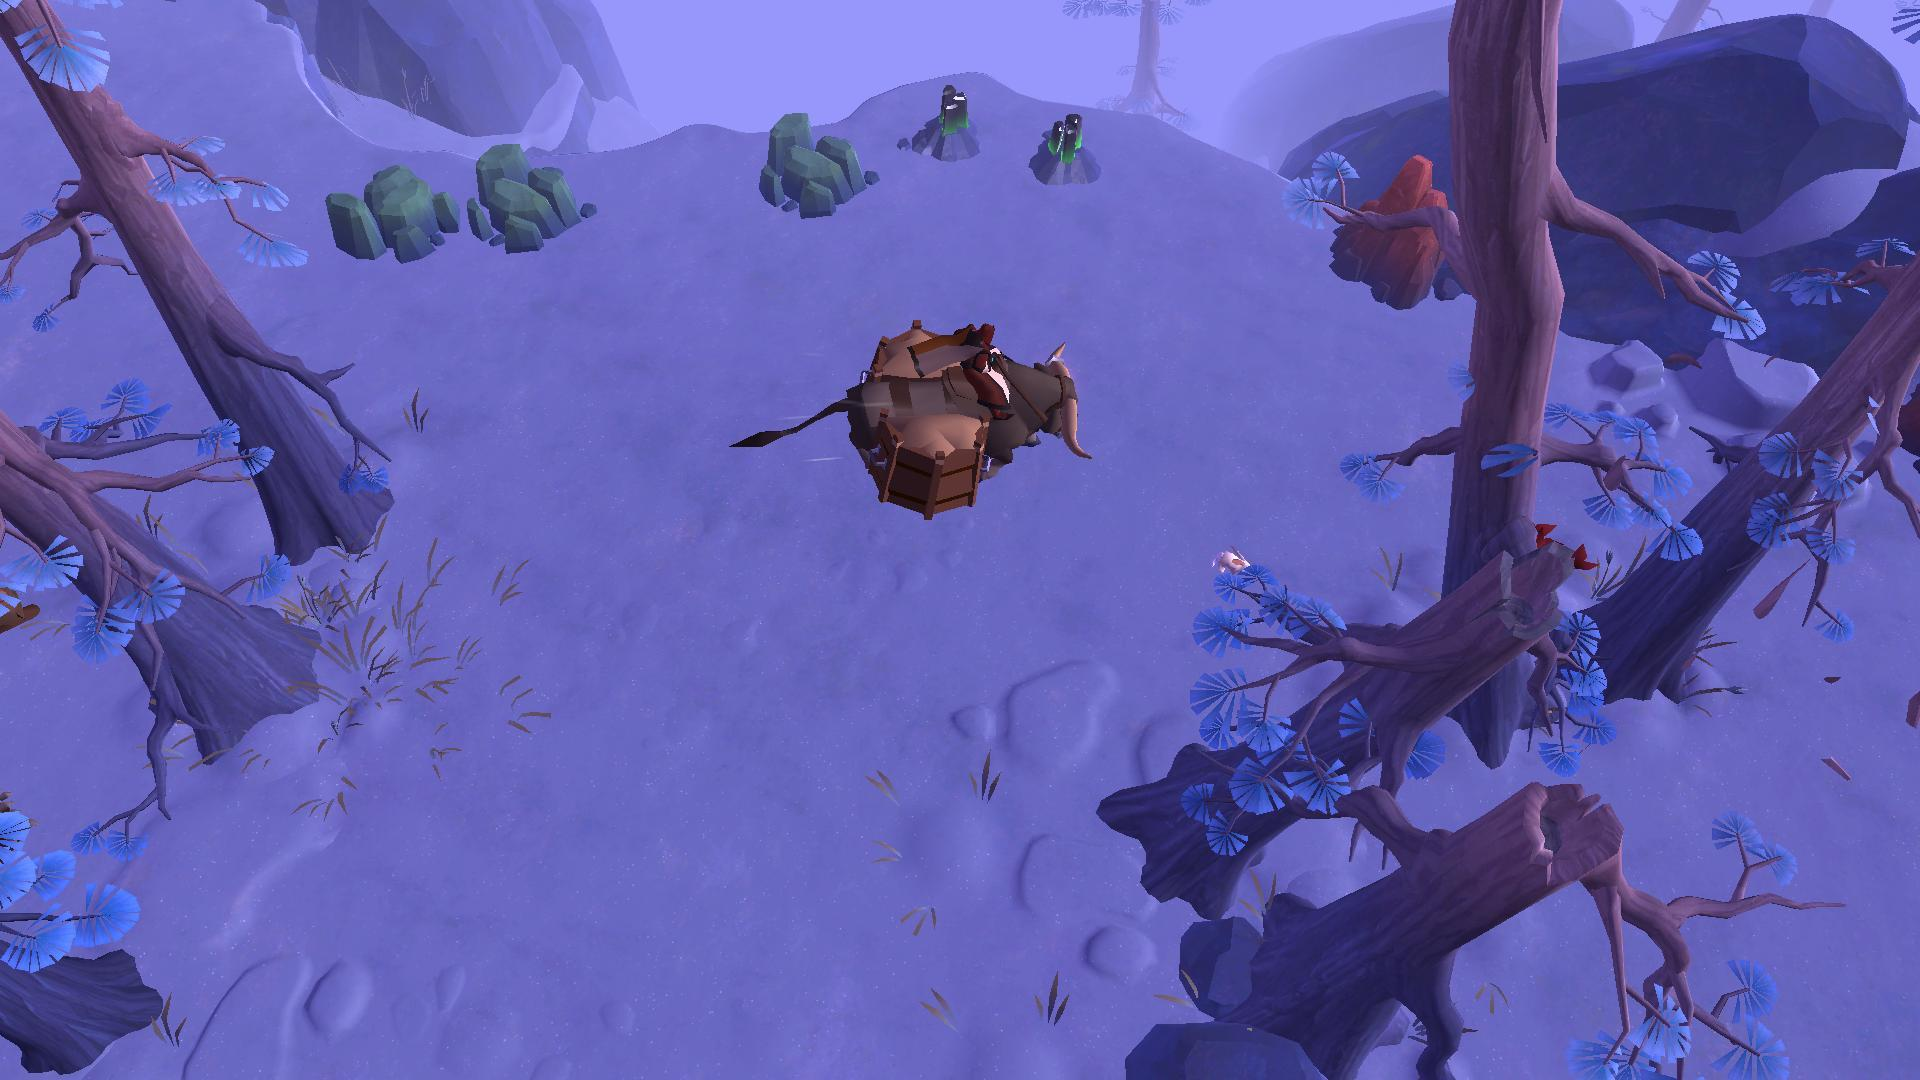ore_t3: (1036, 108, 1091, 169), (939, 82, 972, 140)
rock_t3: (455, 125, 601, 247), (318, 148, 455, 268), (750, 102, 877, 218)
rock_t5: (1319, 150, 1476, 305)
